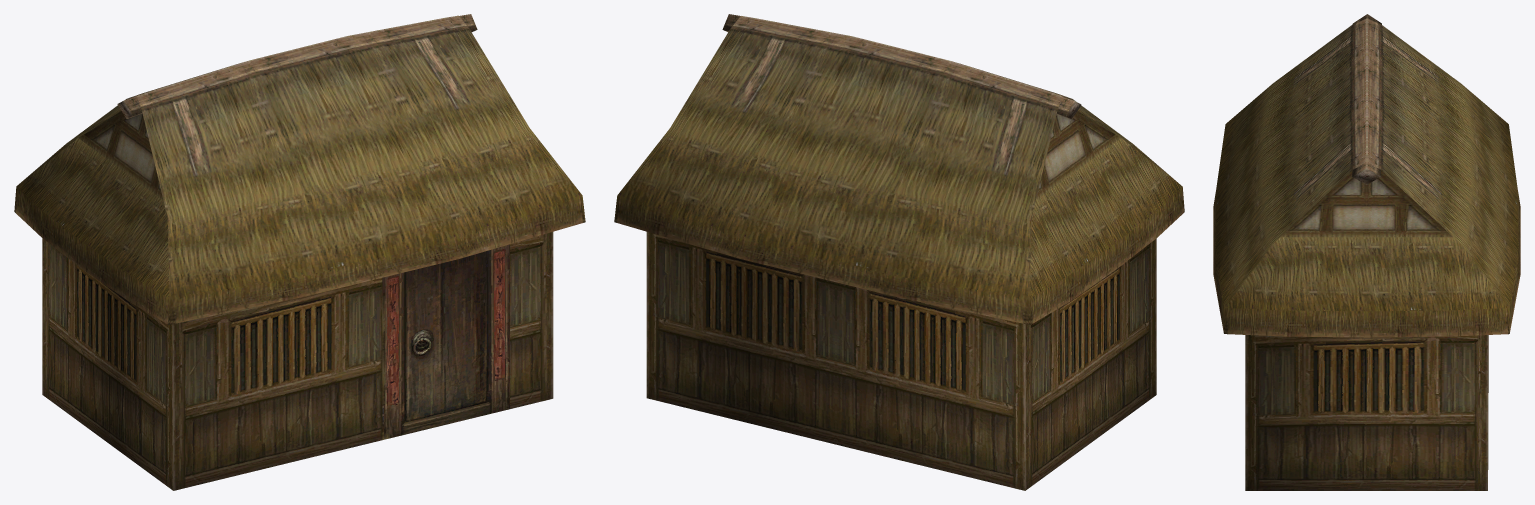
Rendered from C5_straw hut_1.FBX.
3 renders of one model, left to right at view 1: azimuth 30°, elevation 25°; view 2: azimuth 150°, elevation 25°; view 3: azimuth 270°, elevation 25°, orthographic. The views are drawn at different scales.
Visible parts, largest first — view 1: C5_straw hut_1; view 2: C5_straw hut_1; view 3: C5_straw hut_1.
Boxes of the visible parts, box(x1,y1,x2,y2) form: C5_straw hut_1: box(14, 14, 585, 490); C5_straw hut_1: box(614, 14, 1184, 490); C5_straw hut_1: box(1213, 14, 1520, 490).
Size of the model in its own units: 519 by 400 by 345.
